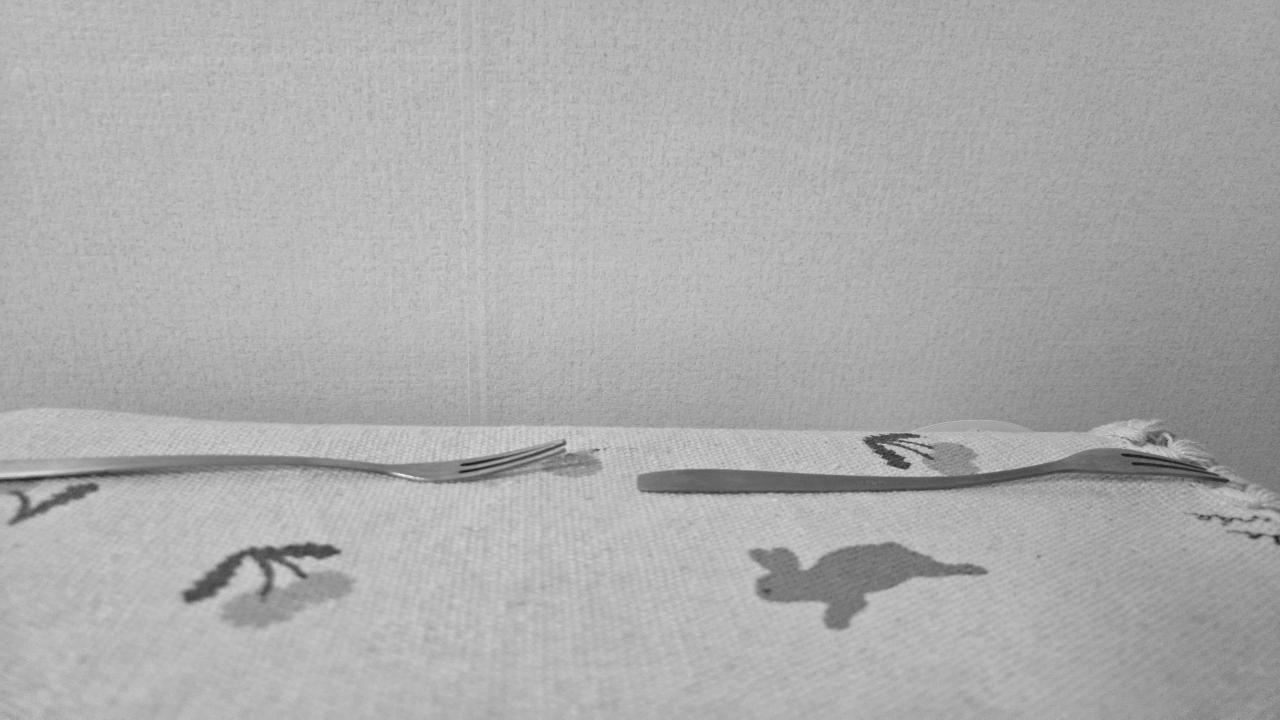fork: (636, 446, 1239, 497), (0, 436, 572, 486)
